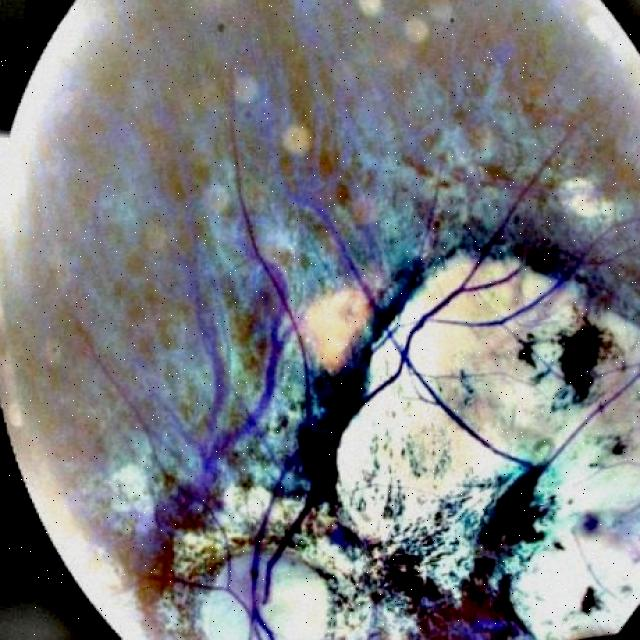Nerves: (313, 166, 640, 477), (179, 110, 323, 640)
Optic Disk: (199, 552, 328, 640)
